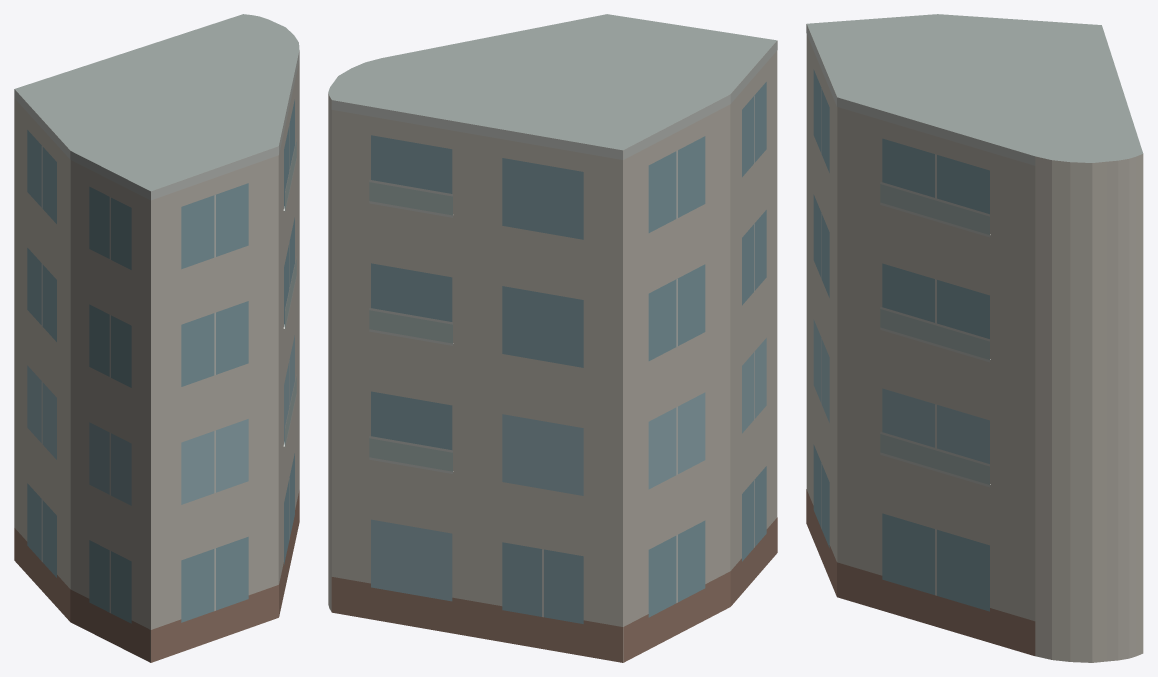
The model's file is survey-upis-32940437.glb.
The picture shows the model from 3 angles, left to right: view 1: azimuth 30°, elevation 25°; view 2: azimuth 150°, elevation 25°; view 3: azimuth 270°, elevation 25°; orthographic projection. The views are drawn at different scales.
Visible parts, largest first — view 1: survey-upis-32940437.tmp; view 2: survey-upis-32940437.tmp; view 3: survey-upis-32940437.tmp.
Boxes of the visible parts, x1,y1,x2,y2 form: survey-upis-32940437.tmp: [14, 14, 299, 662]; survey-upis-32940437.tmp: [328, 14, 777, 662]; survey-upis-32940437.tmp: [806, 14, 1143, 662].
Size of the model in its own units: 8.19 by 12.8 by 7.83.
